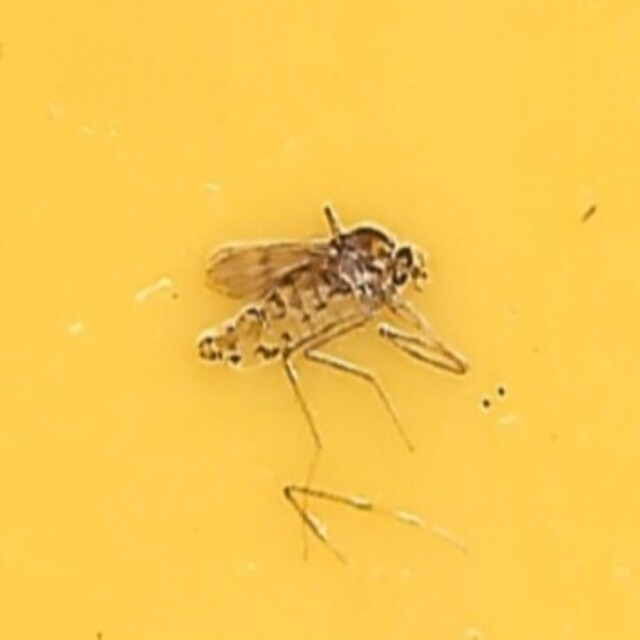Nematocera: (181, 221, 459, 419)
